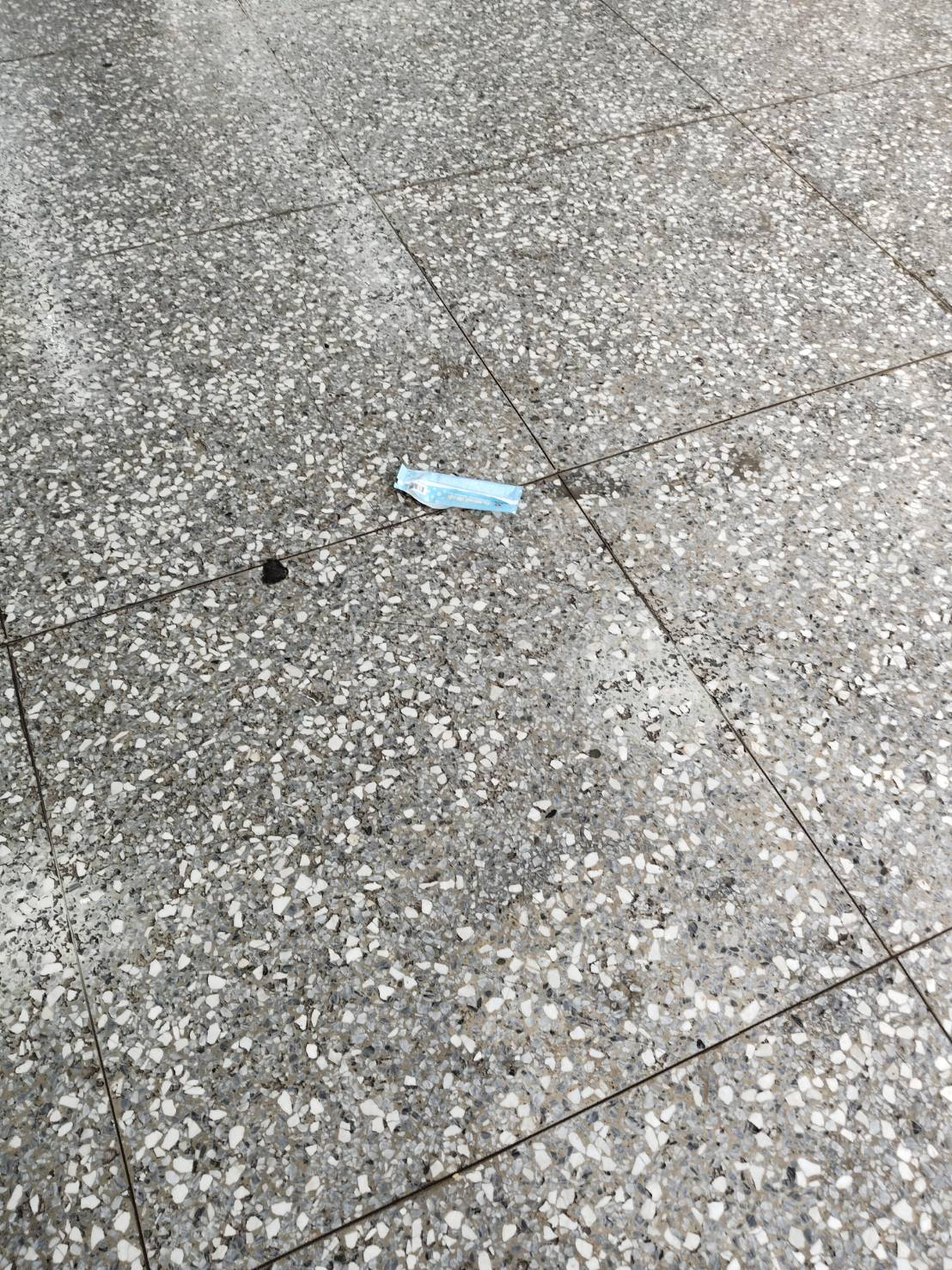General waste: (338, 433, 621, 550)
